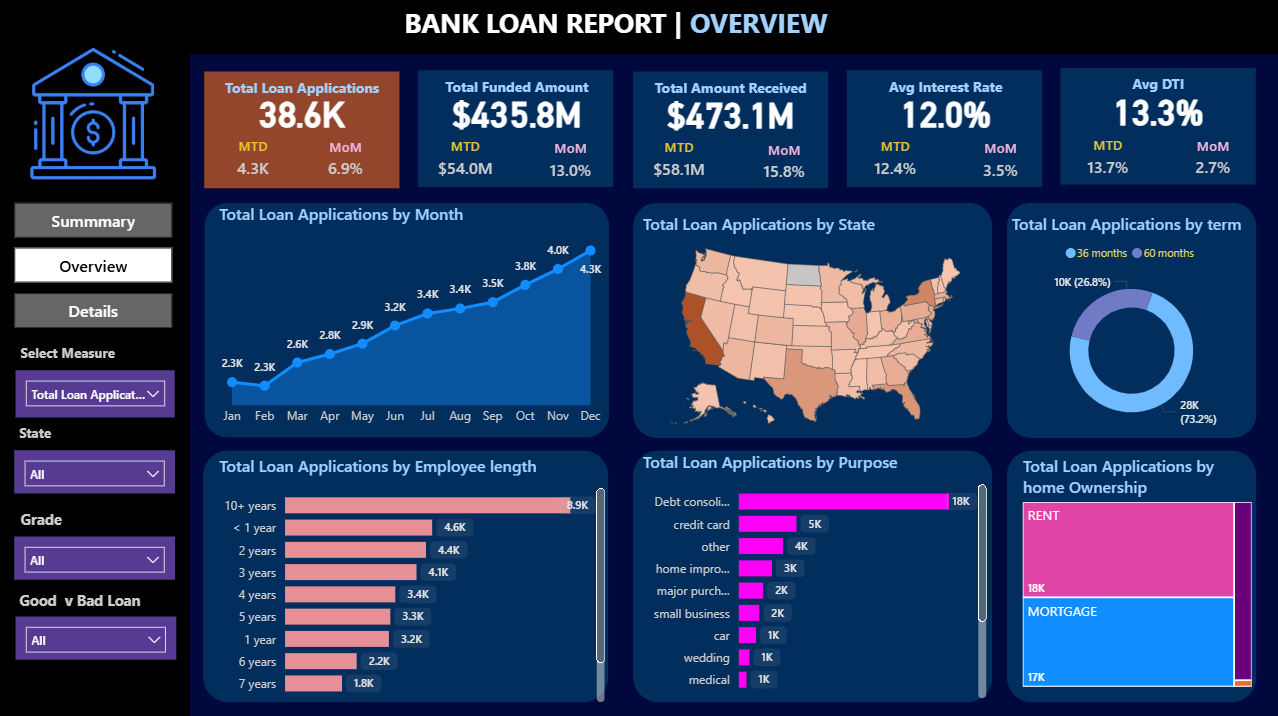

The page's visual inventory and layout, read from the dashboard file:
{"tool":"powerbi","page":{"name":"Overview","canvas":[1280,720],"ordinal":1},"visuals":[{"type":"shape","box":[0,55.5,192,664.7],"z":0},{"type":"shape","box":[0,0,1280,55.5],"z":1000},{"type":"textbox","box":[401.7,0,474.1,55.5],"z":2000},{"type":"shape","box":[206.3,72.4,195.4,117],"z":3000},{"type":"card","fields":{"Values":["bank_loan_data.Total Loan Applications"]},"box":[206.3,74.8,195.4,76],"z":4000},{"type":"textbox","box":[206.3,73.6,195.4,38.6],"z":5000},{"type":"card","title":"MTD","fields":{"Values":["bank_loan_data.MTD Loan Applications"]},"box":[224.4,137.5,60.3,49.5],"z":6000},{"type":"shape","box":[420.5,71.2,195.4,117],"z":7000},{"type":"card","title":"MoM","fields":{"Values":["bank_loan_data.MoM Loan Application"]},"box":[317.3,138.7,60.3,48.3],"z":8000},{"type":"card","fields":{"Values":["bank_loan_data.TOTAL FUNDED AMOUNT"]},"box":[421,74.8,195.4,76],"z":9000},{"type":"textbox","box":[421,72.4,195.4,38.6],"z":10000},{"type":"card","title":"MTD","fields":{"Values":["bank_loan_data.MTD Funded Amount"]},"box":[433.1,137.5,70,49.5],"z":11000},{"type":"card","title":"MoM","fields":{"Values":["bank_loan_data.MoM Total Funded Amount"]},"box":[542.9,139.9,60.3,48.3],"z":12000},{"type":"shape","box":[634.6,72.5,195.4,117],"z":13000},{"type":"card","fields":{"Values":["bank_loan_data.TOTAL AMOUNT RECEIVED"]},"box":[634.7,76.1,195.4,76],"z":14000},{"type":"textbox","box":[634.7,73.7,195.4,38.6],"z":15000},{"type":"card","title":"MTD","fields":{"Values":["bank_loan_data.MTD Total Amount Received"]},"box":[646.8,138.8,70,49.5],"z":16000},{"type":"card","title":"MoM","fields":{"Values":["bank_loan_data.MoM Total Amount Received"]},"box":[756.5,141.3,60.3,48.3],"z":17000},{"type":"shape","box":[848.8,70.9,195.4,117],"z":18000},{"type":"card","fields":{"Values":["bank_loan_data.AVG Interest Rate"]},"box":[850.3,74.5,195.4,76],"z":19000},{"type":"textbox","box":[850.3,72.1,195.4,38.6],"z":20000},{"type":"card","title":"MTD","fields":{"Values":["bank_loan_data.MTD Avg Int Rate"]},"box":[862.3,137.3,70,49.5],"z":21000},{"type":"card","title":"MoM","fields":{"Values":["bank_loan_data.MoM AVG Int Rate"]},"box":[972.1,139.7,60.3,48.3],"z":22000},{"type":"shape","box":[1063,69.3,195.4,117],"z":23000},{"type":"card","fields":{"Values":["bank_loan_data.AVG DTI"]},"box":[1063,72.9,195.4,76],"z":24000},{"type":"textbox","box":[1063,70.5,195.4,38.6],"z":25000},{"type":"card","title":"MTD","fields":{"Values":["bank_loan_data.MTD DTI"]},"box":[1075,135.7,70,49.5],"z":26000},{"type":"card","title":"MoM","fields":{"Values":["bank_loan_data.MoM AVG DTI"]},"box":[1184.8,138.1,60.3,48.3],"z":27000},{"type":"shape","box":[206.3,203.9,405,235],"z":28000},{"type":"slicer","fields":{"Values":["bank_loan_data.address_state"]},"box":[15.7,451.2,160.5,43.4],"z":29000},{"type":"textbox","box":[15.7,418.6,80.8,32.6],"z":30000},{"type":"slicer","fields":{"Values":["bank_loan_data.grade"]},"box":[15.7,538.1,160.5,43.4],"z":31000},{"type":"slicer","fields":{"Values":["bank_loan_data.Good Vs  Bad Loan"]},"box":[16.9,617.7,160.5,43.4],"z":32000},{"type":"shape","box":[1008.6,203.9,249.7,235.3],"z":33000},{"type":"textbox","box":[16.9,505.5,80.8,32.6],"z":34000},{"type":"textbox","box":[15.7,586.3,146,32.6],"z":35000},{"type":"areaChart","fields":{"Y":["bank_loan_data.Total Loan Applications"],"Category":["Date Table.Month"]},"box":[216,203.9,394.5,231.6],"z":36000},{"type":"slicer","fields":{"Values":["Select Measure.Select Measure"]},"box":[16.9,371.6,159.3,47.1],"z":37000},{"type":"textbox","box":[16.9,339,113.4,32.6],"z":38000},{"type":"shape","box":[634.6,203.9,359.5,235.3],"z":39000},{"type":"shapeMap","fields":{"Value":["bank_loan_data.Total Loan Applications"],"Category":["bank_loan_data.address_state"]},"box":[639.4,213.5,354.7,225.6],"z":40000},{"type":"donutChart","fields":{"Y":["bank_loan_data.Total Loan Applications"],"Category":["bank_loan_data.term"]},"box":[1008.6,213.5,249.7,226.8],"z":41000},{"type":"shape","box":[205.1,451.2,405.4,252.1],"z":42000},{"type":"barChart","fields":{"Y":["bank_loan_data.Total Loan Applications"],"Category":["bank_loan_data.emp_length"]},"box":[216,454.8,395.7,253.4],"z":43000},{"type":"shape","box":[634.6,451.2,359.5,252.1],"z":44000},{"type":"barChart","fields":{"Y":["bank_loan_data.Total Loan Applications"],"Category":["bank_loan_data.purpose"]},"box":[640.6,451.2,353.5,253.4],"z":45000},{"type":"shape","box":[1008.6,451.2,249.7,252.1],"z":46000},{"type":"treemap","fields":{"Values":["bank_loan_data.Total Loan Applications"],"Group":["bank_loan_data.home_ownership"]},"box":[1019.4,454.8,238.9,237.7],"z":47000},{"type":"pageNavigator","box":[16.7,203.3,158.9,126.7],"z":47001},{"type":"image","box":[7.8,37.8,175.6,154.4],"z":47002}]}

Visuals, with their boxes in screenshot pixels (x1, y1, x2, y2), scaled from the page's 1280x720 canvas onto the 1278x716 screenshot:
shape: 0,55,192,715
shape: 0,0,1277,55
textbox: 401,0,874,55
shape: 206,72,401,188
card - bank_loan_data.Total Loan Applications: 206,74,401,150
textbox: 206,73,401,112
"MTD" card: 224,137,284,186
shape: 420,71,615,187
"MoM" card: 317,138,377,186
card - bank_loan_data.TOTAL FUNDED AMOUNT: 420,74,615,150
textbox: 420,72,615,110
"MTD" card: 432,137,502,186
"MoM" card: 542,139,602,187
shape: 634,72,829,188
card - bank_loan_data.TOTAL AMOUNT RECEIVED: 634,76,829,151
textbox: 634,73,829,112
"MTD" card: 646,138,716,187
"MoM" card: 755,141,816,189
shape: 847,71,1043,187
card - bank_loan_data.AVG Interest Rate: 849,74,1044,150
textbox: 849,72,1044,110
"MTD" card: 861,137,931,186
"MoM" card: 971,139,1031,187
shape: 1061,69,1256,185
card - bank_loan_data.AVG DTI: 1061,72,1256,148
textbox: 1061,70,1256,108
"MTD" card: 1073,135,1143,184
"MoM" card: 1183,137,1243,185
shape: 206,203,610,436
slicer - bank_loan_data.address_state: 16,449,176,492
textbox: 16,416,96,449
slicer - bank_loan_data.grade: 16,535,176,578
slicer - bank_loan_data.Good Vs  Bad Loan: 17,614,177,657
shape: 1007,203,1256,437
textbox: 17,503,98,535
textbox: 16,583,161,615
areaChart - bank_loan_data.Total Loan Applications x Date Table.Month: 216,203,610,433
slicer - Select Measure.Select Measure: 17,370,176,416
textbox: 17,337,130,370
shape: 634,203,993,437
shapeMap - bank_loan_data.Total Loan Applications x bank_loan_data.address_state: 638,212,993,437
donutChart - bank_loan_data.Total Loan Applications x bank_loan_data.term: 1007,212,1256,438
shape: 205,449,610,699
barChart - bank_loan_data.Total Loan Applications x bank_loan_data.emp_length: 216,452,611,704
shape: 634,449,993,699
barChart - bank_loan_data.Total Loan Applications x bank_loan_data.purpose: 640,449,993,701
shape: 1007,449,1256,699
treemap - bank_loan_data.Total Loan Applications x bank_loan_data.home_ownership: 1018,452,1256,689
pageNavigator: 17,202,175,328
image: 8,38,183,191
